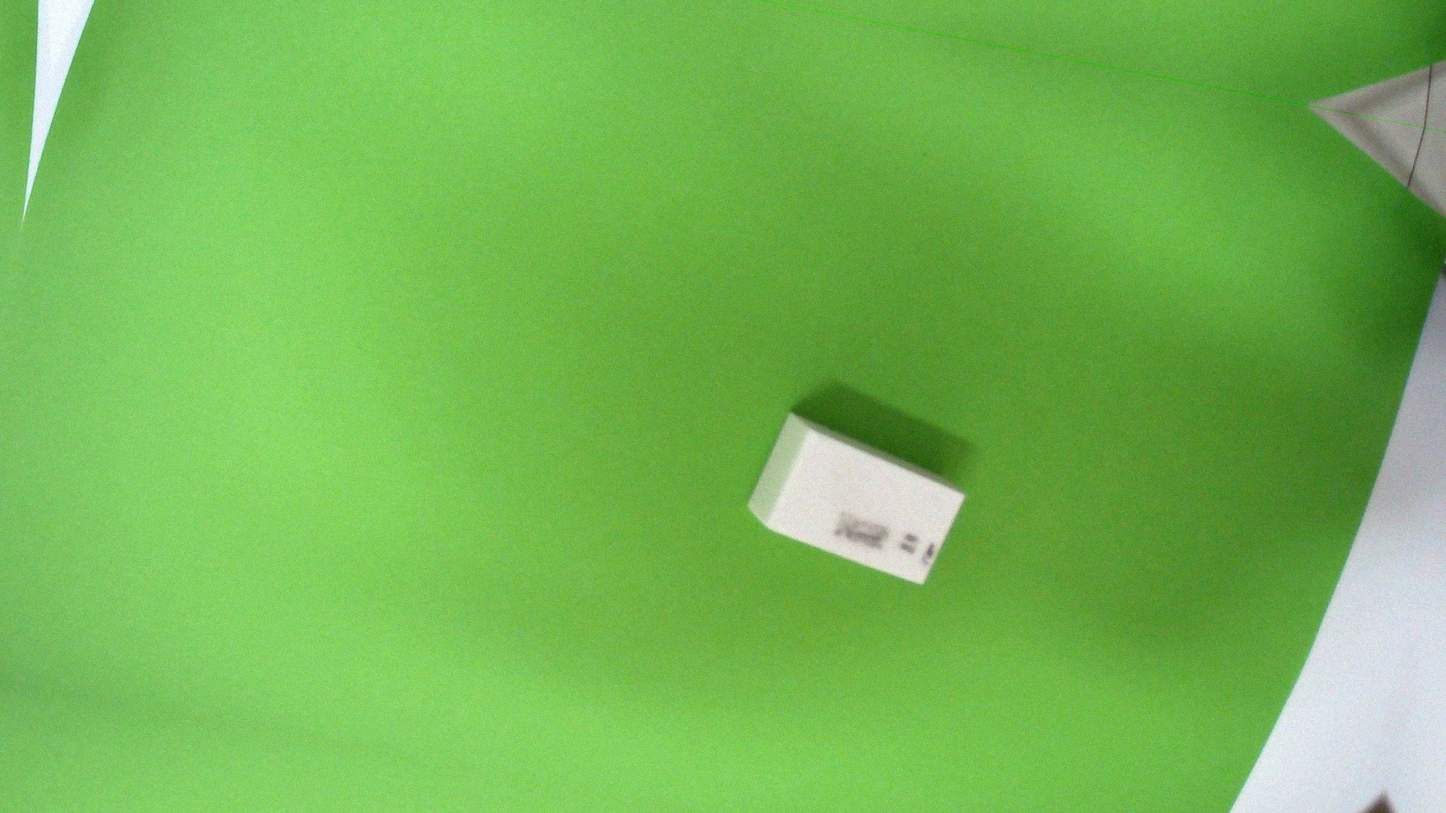gom: (739, 400, 973, 596)
